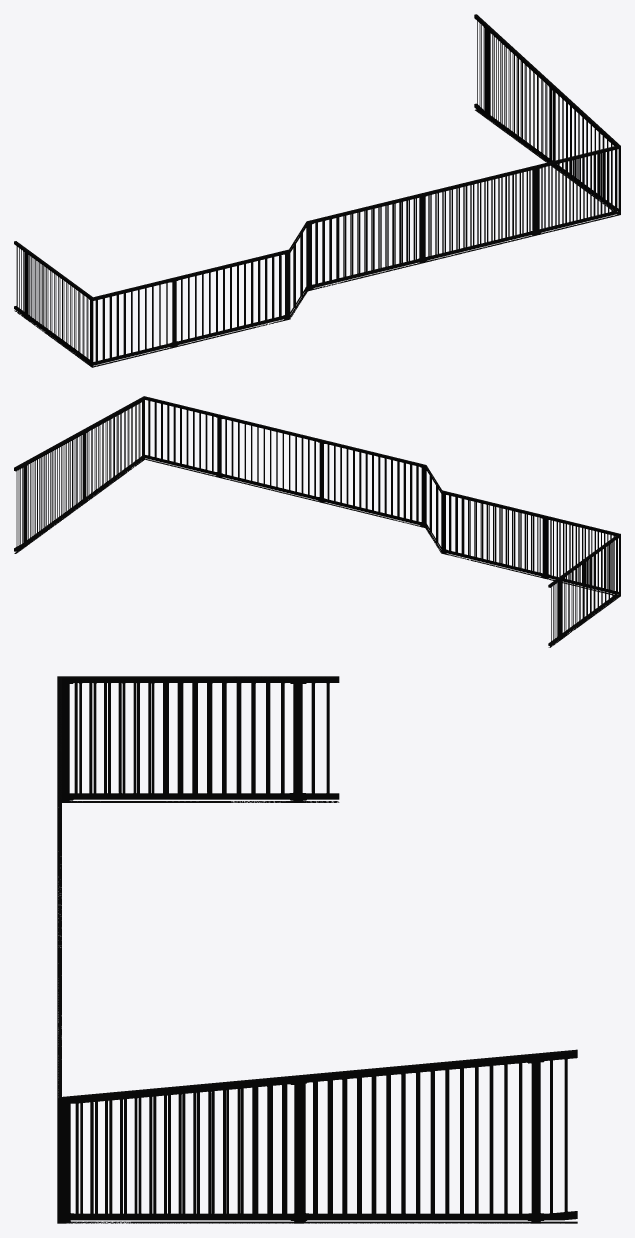
File: Balcony-rails.FBX
The picture shows the model from 3 angles, top to bottom: view 1: azimuth 30°, elevation 25°; view 2: azimuth 150°, elevation 25°; view 3: azimuth 270°, elevation 25°; orthographic projection. The views are drawn at different scales.
Visible parts, largest first — view 1: rails01; view 2: rails01; view 3: rails01.
Boxes of the visible parts, <box> form: rails01: <box>14,14,620,367</box>; rails01: <box>14,396,620,647</box>; rails01: <box>57,676,577,1223</box>.
Bounding box in the file's own units: 9.29 × 2 × 4.39.
Materials: 1 (1 with a texture image).
